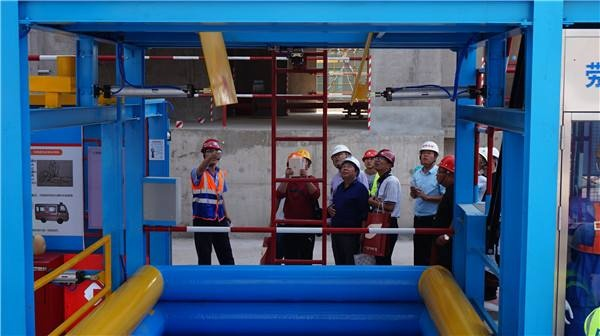red: (435, 155, 457, 186), (199, 137, 224, 164), (372, 148, 396, 174), (362, 148, 379, 171)
white: (417, 140, 440, 168), (339, 154, 361, 183), (329, 143, 350, 167)
